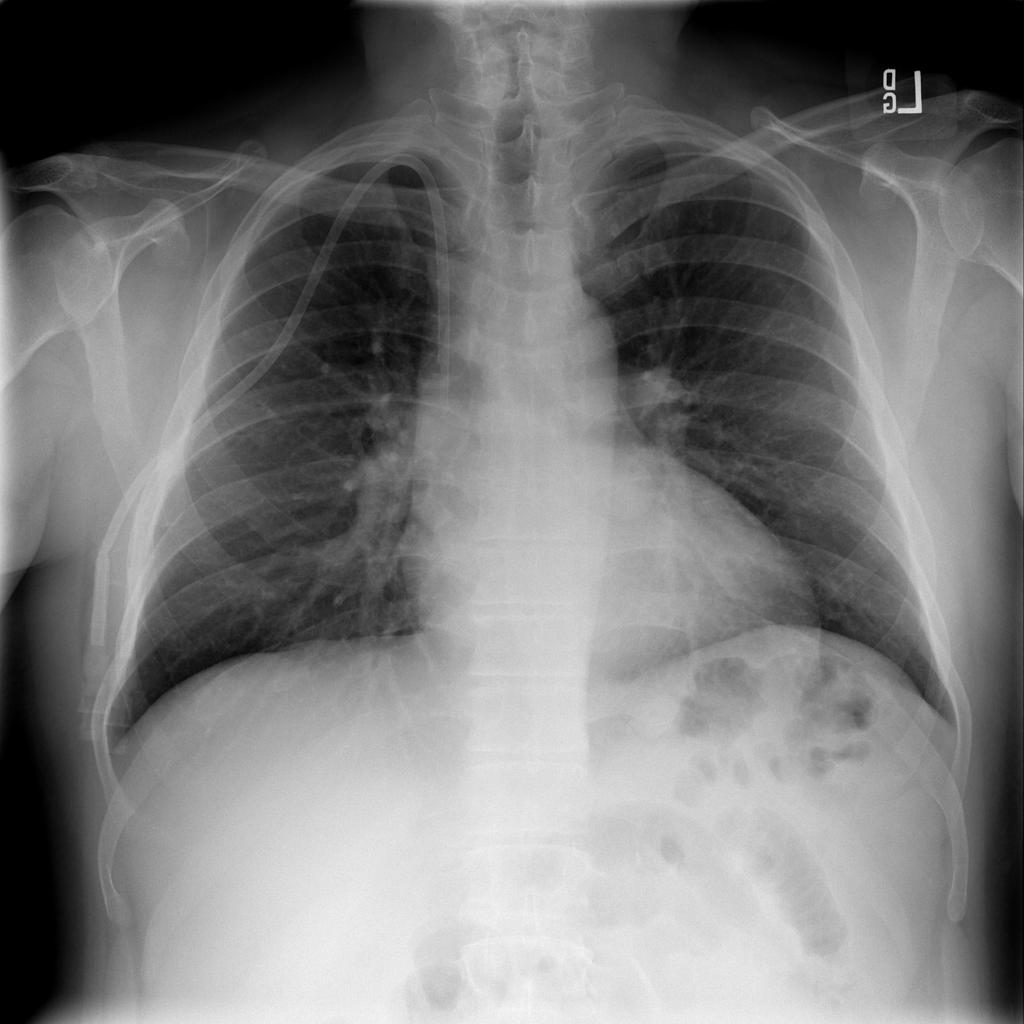nodule: (590, 447, 669, 527)
